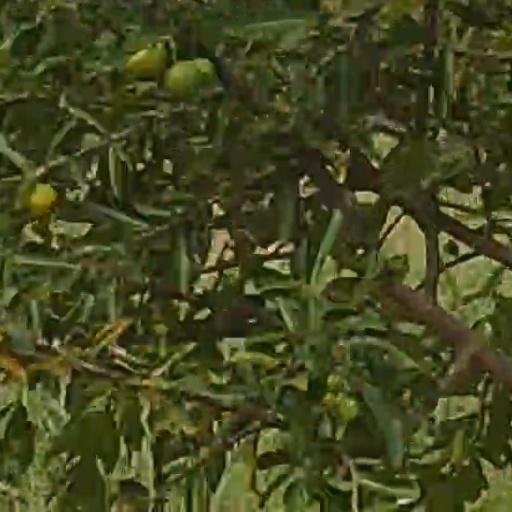acerola: (164, 57, 203, 94), (131, 42, 164, 75), (30, 184, 57, 215)
